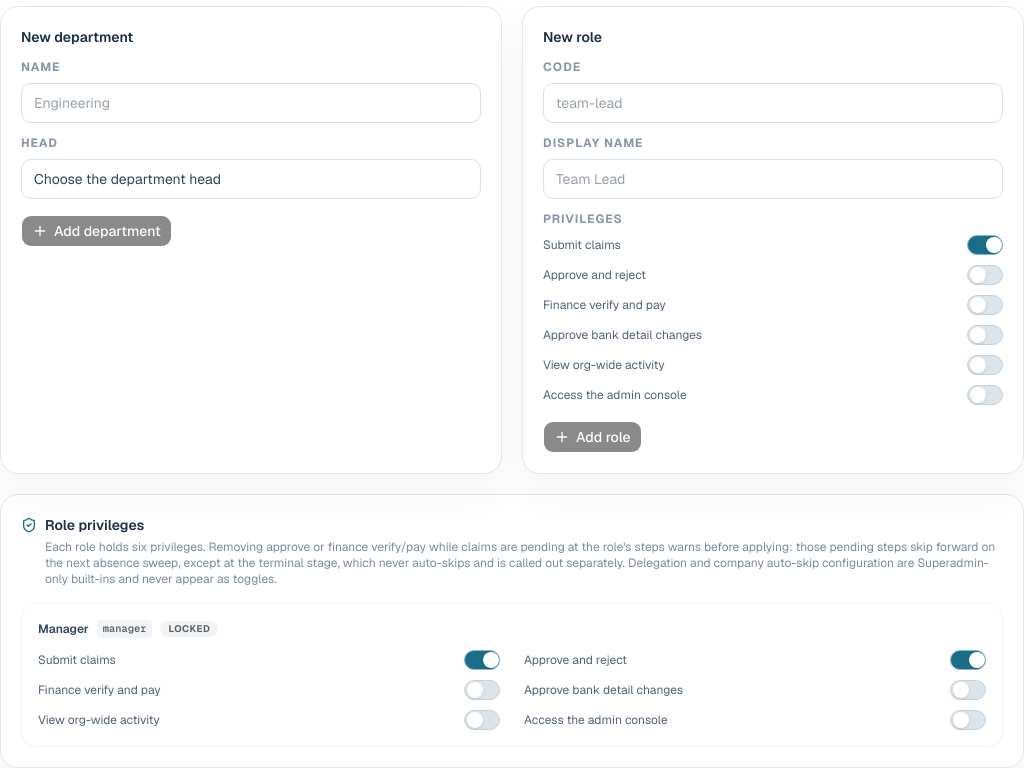
Test: OrgSection privilege toggles › cancel closes the dialog without saving the removal
The image size is (1024, 768).
(page scrolled)
Click the switch named "Manager Approve and reject" at (968, 660), box x1=950 y1=650 x2=986 y2=670
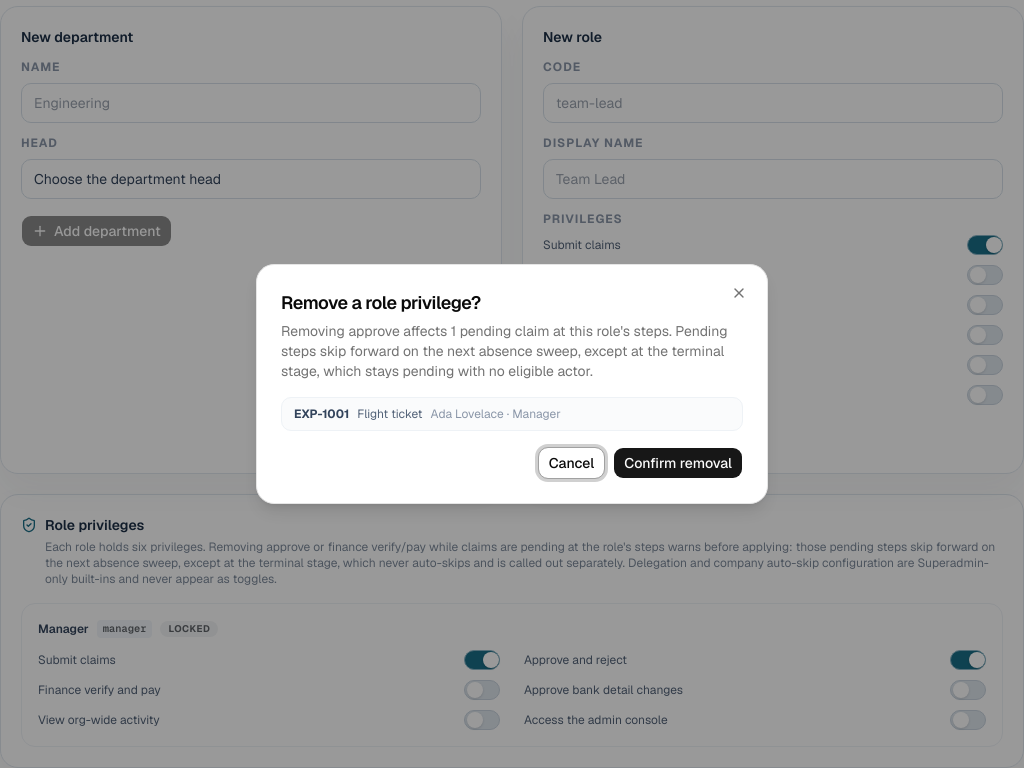
Click the button "Cancel" at (572, 463), box x1=538 y1=447 x2=605 y2=479
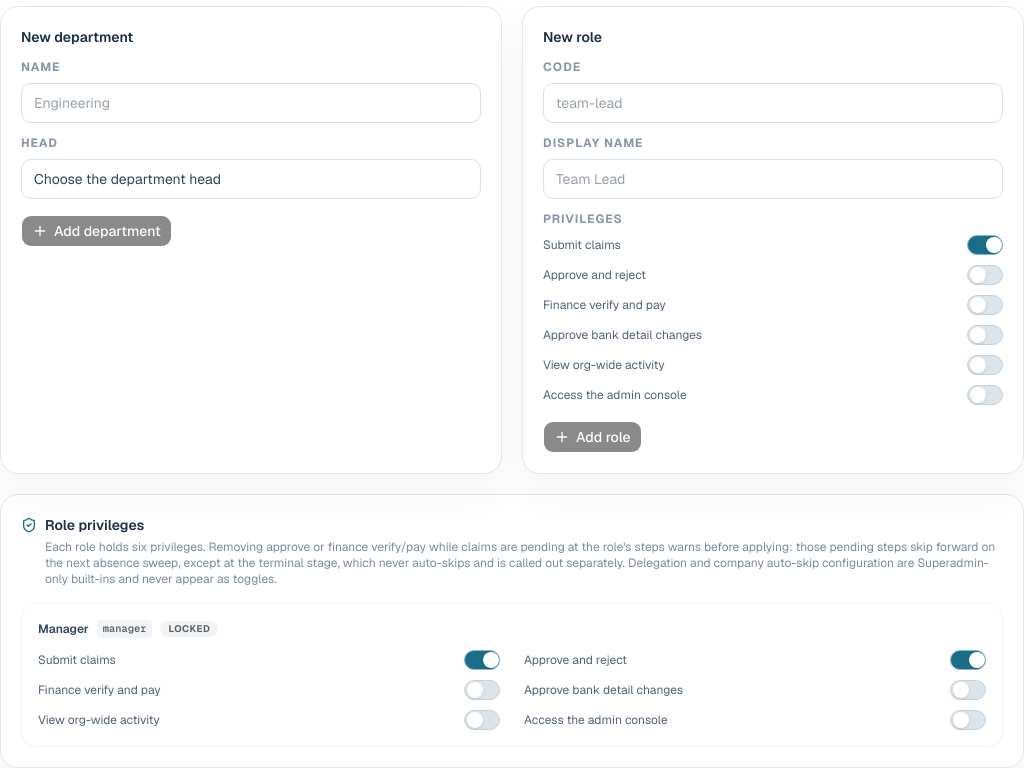
Check: the switch named "Manager Approve and reject" is checked, box x1=950 y1=650 x2=986 y2=670
Check: the dialog is gone
